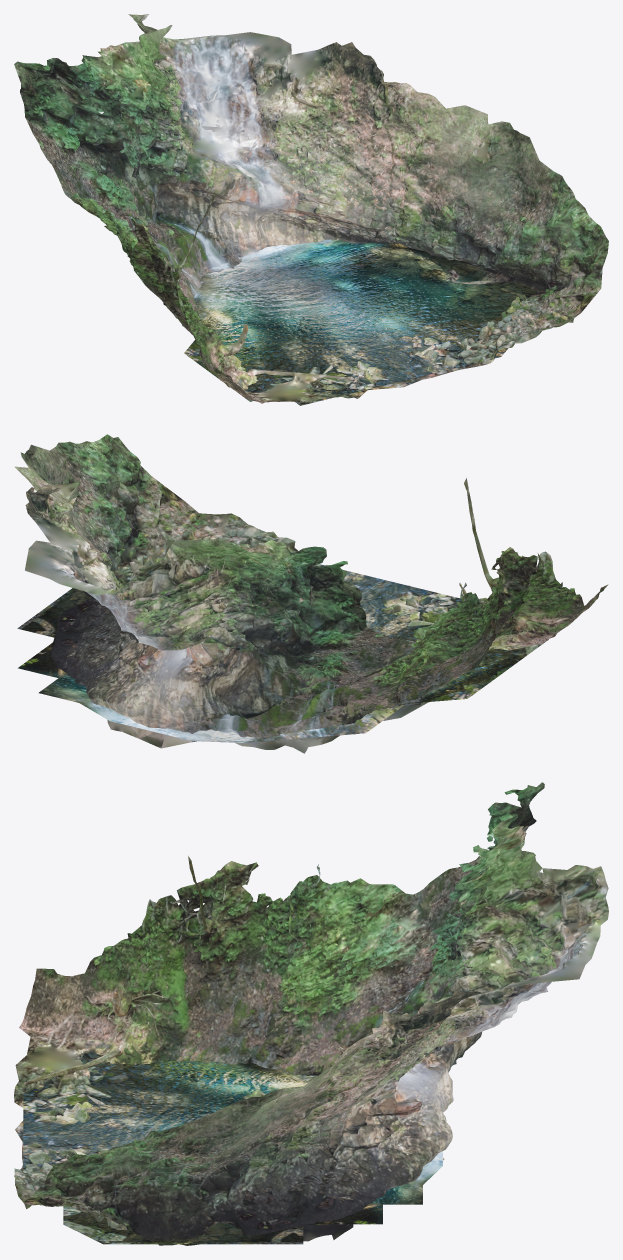
The model's file is cascada.glb.
3 views of the same model, one above another, from view 1: azimuth 30°, elevation 25°; view 2: azimuth 150°, elevation 25°; view 3: azimuth 270°, elevation 25° (orthographic). The views are drawn at different scales.
Visible parts, largest first — view 1: Object_2; view 2: Object_2; view 3: Object_2.
Boxes of the visible parts, x1,y1,x2,y2 form: Object_2: (14, 14, 608, 405); Object_2: (14, 434, 608, 753); Object_2: (14, 782, 608, 1245).
Bounding box in the file's own units: 19.3 × 10.61 × 20.89.
1 material, 1 textured.
